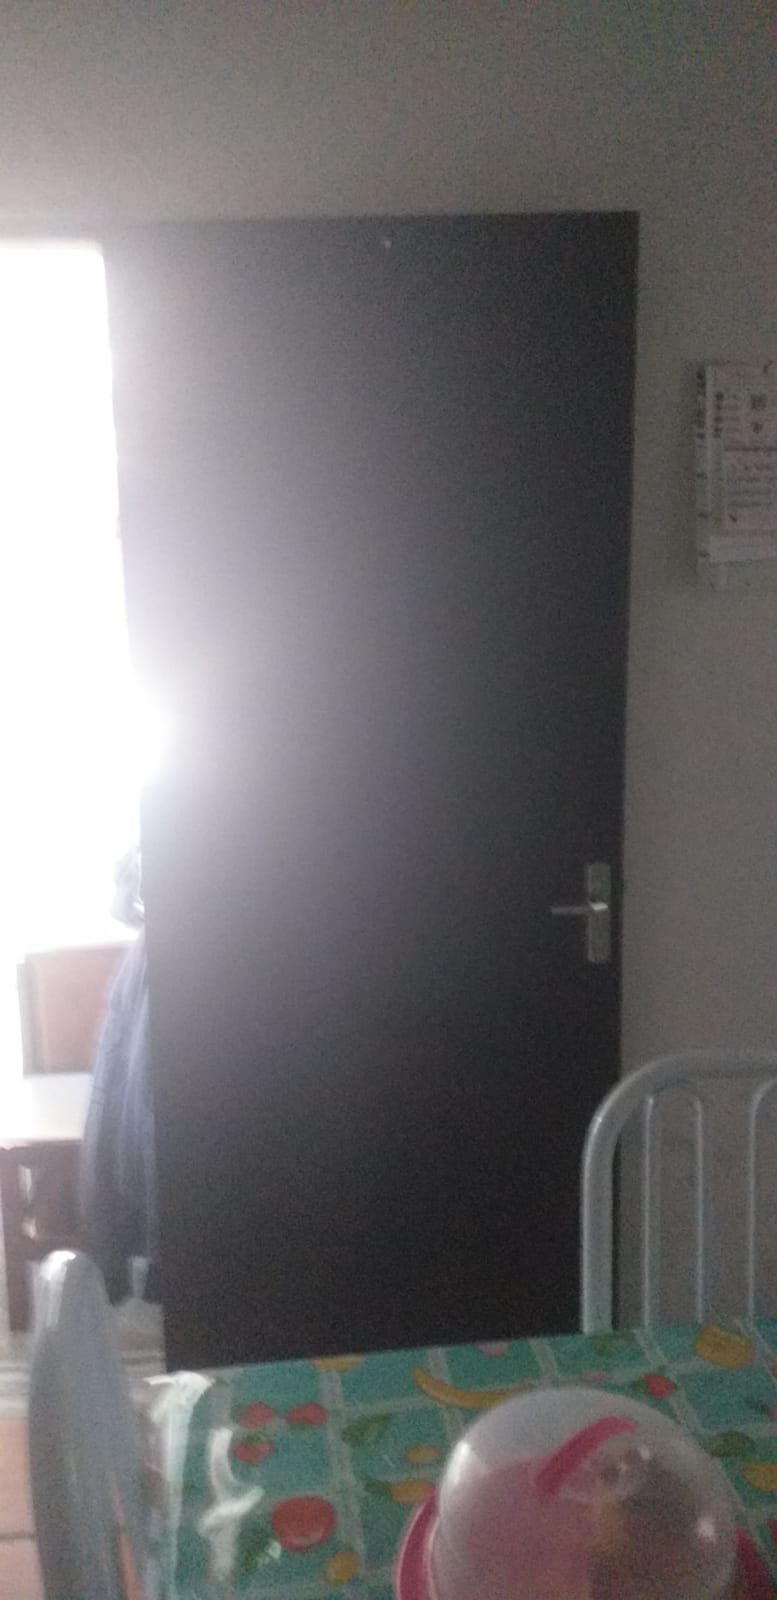door: (1, 205, 637, 1338)
